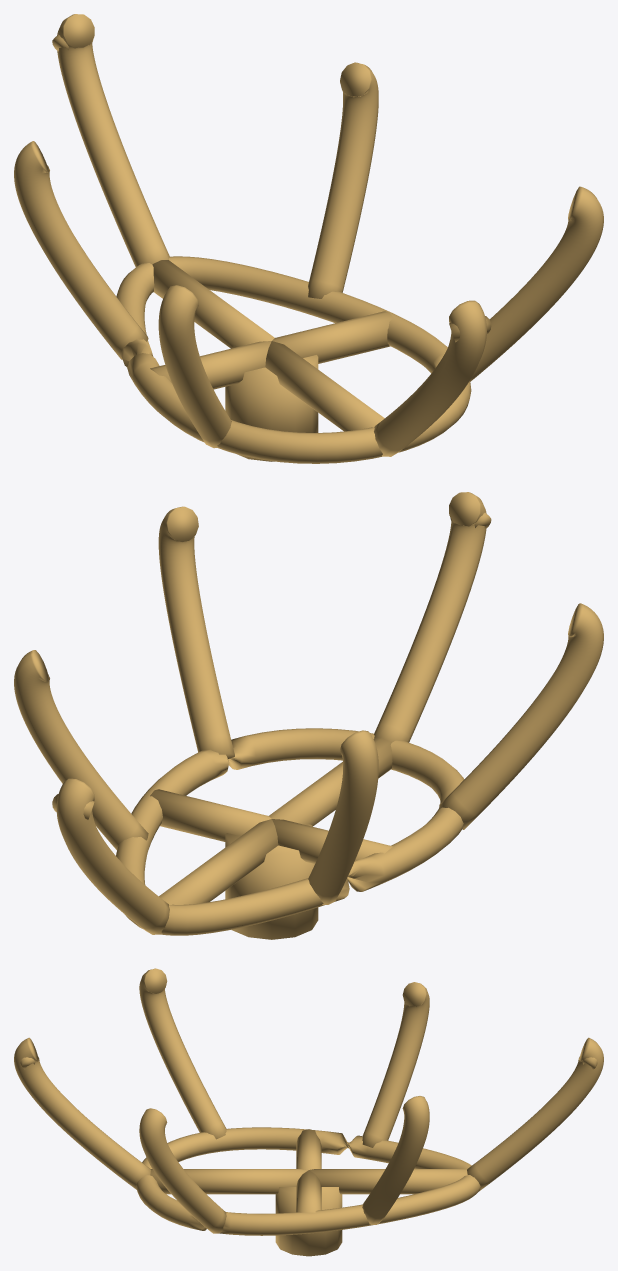
File: stuller-lg-500120766-6-prong.glb
3 views of the same model, one above another, from view 1: azimuth 30°, elevation 25°; view 2: azimuth 150°, elevation 25°; view 3: azimuth 270°, elevation 25° (orthographic). The views are drawn at different scales.
Visible parts, largest first — view 1: Metal.177, Metal.183, Metal.182, Metal.184, Metal.187, Metal.186, Metal.185, Metal.176, Metal.181, Metal.179, Metal.178, Metal.180; view 2: Metal.177, Metal.186, Metal.187, Metal.185, Metal.182, Metal.183, Metal.184, Metal.179, Metal.176, Metal.178, Metal.181, Metal.180; view 3: Metal.177, Metal.185, Metal.183, Metal.186, Metal.184, Metal.187, Metal.182, Metal.181, Metal.179, Metal.176, Metal.178, Metal.180.
Part boxes in pixels (bbox=[...]): Metal.177: bbox=[116, 256, 471, 463]; Metal.183: bbox=[57, 14, 169, 267]; Metal.182: bbox=[308, 62, 378, 298]; Metal.184: bbox=[14, 141, 148, 359]; Metal.187: bbox=[470, 186, 603, 381]; Metal.186: bbox=[374, 300, 486, 456]; Metal.185: bbox=[158, 285, 231, 448]; Metal.176: bbox=[225, 345, 318, 461]; Metal.181: bbox=[265, 341, 384, 431]; Metal.179: bbox=[152, 260, 274, 348]; Metal.178: bbox=[272, 311, 393, 363]; Metal.180: bbox=[150, 341, 271, 389]; Metal.177: bbox=[116, 728, 464, 935]; Metal.186: bbox=[374, 492, 486, 742]; Metal.187: bbox=[158, 506, 234, 758]; Metal.185: bbox=[439, 603, 603, 829]; Metal.182: bbox=[14, 650, 148, 849]; Metal.183: bbox=[56, 778, 169, 934]; Metal.184: bbox=[308, 730, 378, 904]; Metal.179: bbox=[159, 819, 278, 905]; Metal.176: bbox=[225, 823, 318, 939]; Metal.178: bbox=[150, 789, 271, 841]; Metal.181: bbox=[269, 738, 392, 825]; Metal.180: bbox=[272, 819, 393, 863]; Metal.177: bbox=[136, 1127, 480, 1235]; Metal.185: bbox=[139, 968, 226, 1139]; Metal.183: bbox=[467, 1037, 603, 1191]; Metal.186: bbox=[14, 1037, 150, 1189]; Metal.184: bbox=[362, 982, 429, 1147]; Metal.187: bbox=[139, 1108, 226, 1233]; Metal.182: bbox=[362, 1096, 429, 1224]; Metal.181: bbox=[150, 1169, 308, 1194]; Metal.179: bbox=[309, 1169, 467, 1194]; Metal.176: bbox=[275, 1187, 342, 1256]; Metal.178: bbox=[296, 1170, 321, 1233]; Metal.180: bbox=[296, 1129, 321, 1169].
Size of the model in its own units: 6.56 by 4.05 by 10.64.
